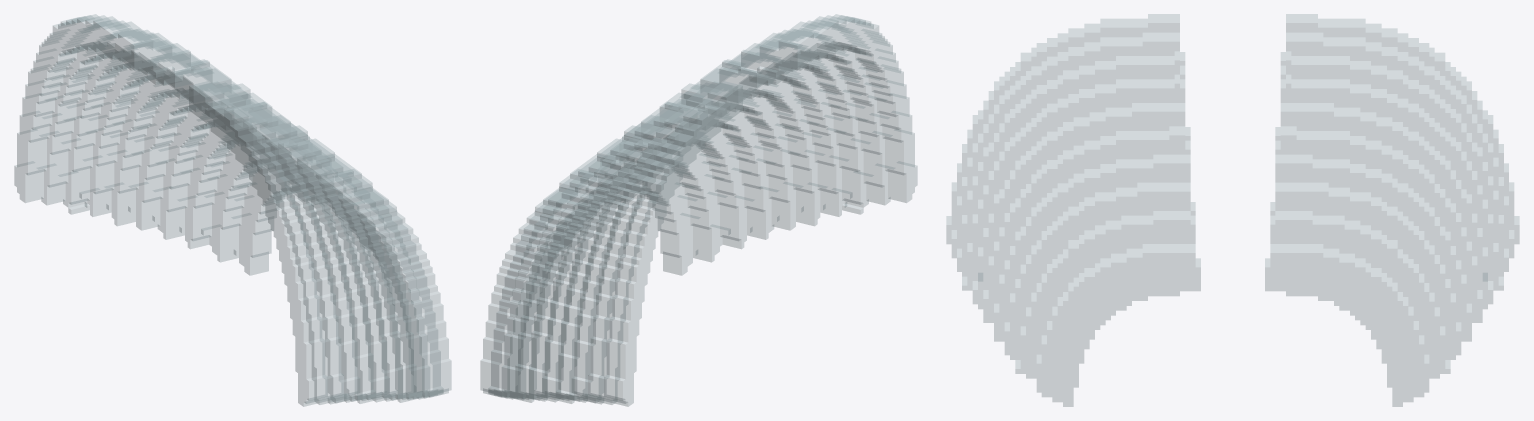
Rendered from heavy_cargo_helicopter_windscreen.glb.
The picture shows the model from 3 angles, left to right: view 1: azimuth 30°, elevation 25°; view 2: azimuth 150°, elevation 25°; view 3: azimuth 270°, elevation 25°; orthographic projection. The views are drawn at different scales.
Visible parts, largest first — view 1: body:compound; view 2: body:compound; view 3: body:compound.
Part boxes in pixels (x1,y1,x2,y2): body:compound: (14, 14, 451, 406); body:compound: (480, 14, 917, 406); body:compound: (946, 14, 1519, 406).
Bounding box in the file's own units: 1.25 × 1.97 × 3.38.
